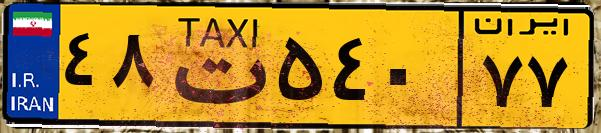0: (385, 28, 445, 110)
4: (330, 28, 385, 110), (57, 26, 110, 100)
5: (270, 28, 330, 110)
7: (475, 38, 525, 113), (525, 38, 570, 115)
8: (110, 28, 158, 98)
ت: (158, 12, 270, 120)
